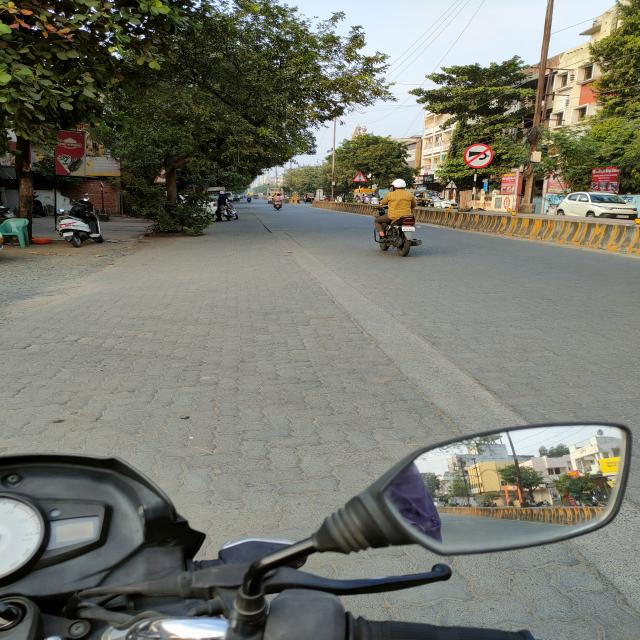HORN_PROHIBITED: (463, 143, 493, 169)
